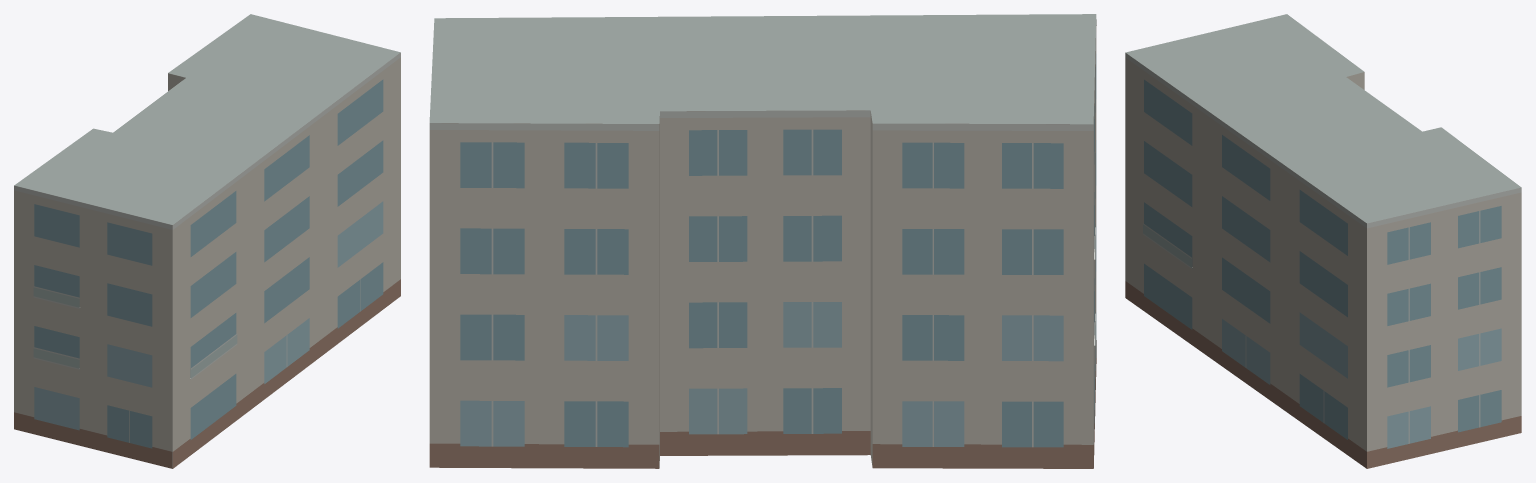
File: survey-upis-32714500.glb
The picture shows the model from 3 angles, left to right: view 1: azimuth 30°, elevation 25°; view 2: azimuth 150°, elevation 25°; view 3: azimuth 270°, elevation 25°; orthographic projection. The views are drawn at different scales.
Parts seen in each view (by area): view 1: survey-upis-32714500.tmp; view 2: survey-upis-32714500.tmp; view 3: survey-upis-32714500.tmp.
Boxes of the visible parts, x1=… form: survey-upis-32714500.tmp: x1=14, y1=14, x2=400, y2=468; survey-upis-32714500.tmp: x1=429, y1=14, x2=1096, y2=468; survey-upis-32714500.tmp: x1=1125, y1=14, x2=1521, y2=468.
Size of the model in its own units: 22.35 by 12.2 by 17.87.
